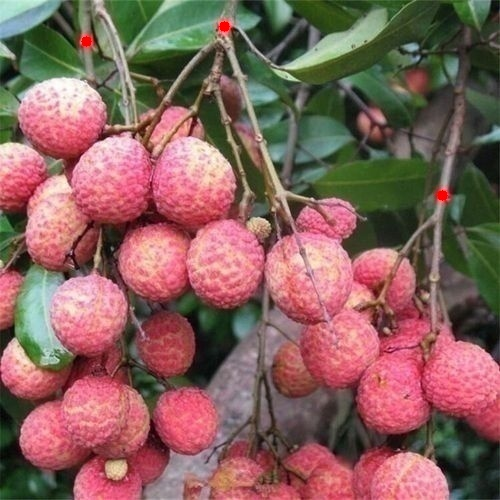litchi: (1, 79, 209, 500), (83, 136, 347, 308), (279, 252, 499, 428), (211, 434, 352, 497)
stem: (423, 28, 473, 231), (277, 22, 322, 177), (206, 1, 238, 55), (78, 1, 93, 78)
